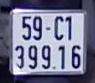1: (57, 43, 67, 70), (65, 14, 73, 41)
3: (14, 43, 25, 73)
5: (21, 14, 33, 42)
6: (71, 41, 83, 71)
9: (32, 15, 46, 43), (26, 42, 38, 69), (41, 44, 51, 70)
C: (52, 14, 66, 43)
